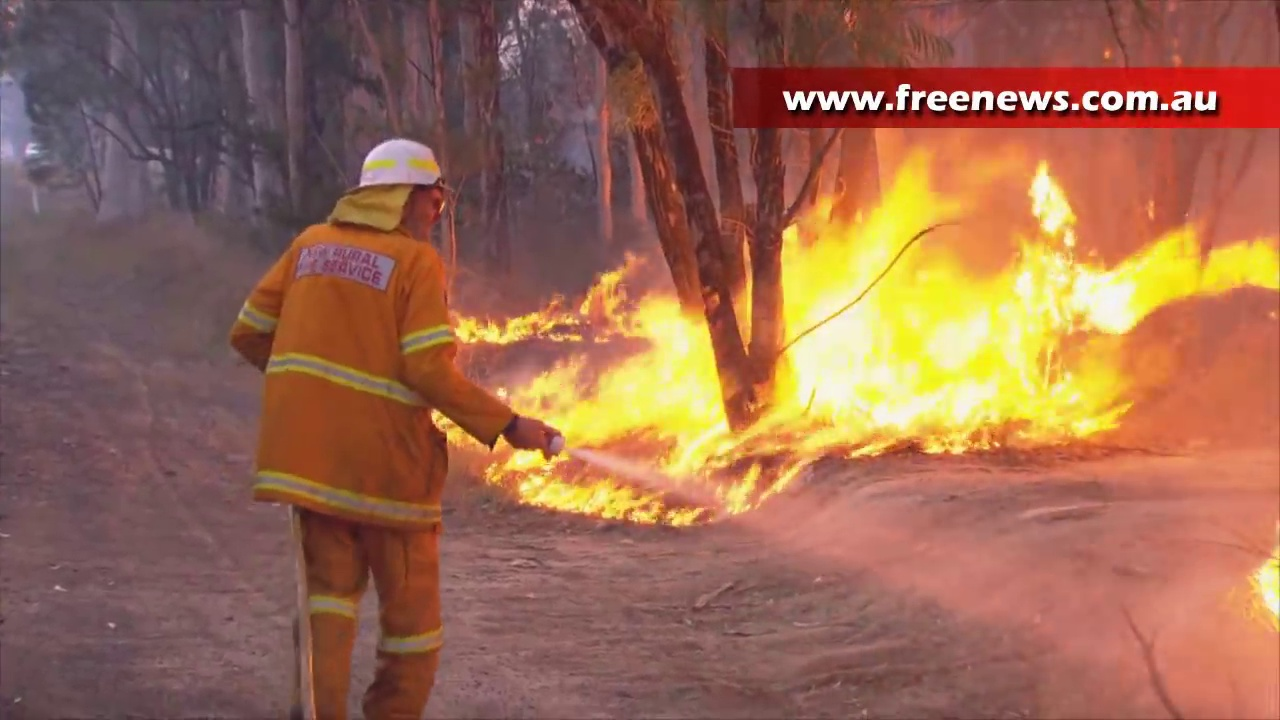fire: (782, 149, 1132, 452), (502, 332, 723, 522), (1133, 235, 1279, 301), (448, 313, 567, 341), (579, 266, 626, 334), (1256, 555, 1280, 603)
